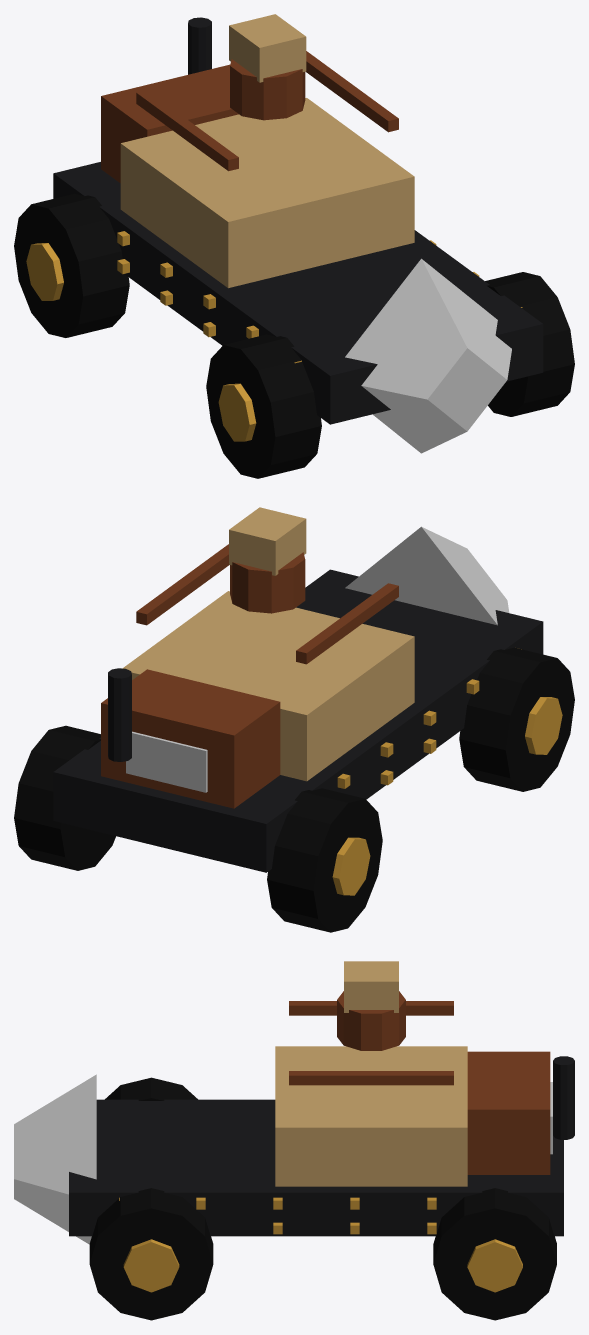
File: raider_buggy.obj
The picture shows the model from 3 angles, top to bottom: view 1: azimuth 30°, elevation 25°; view 2: azimuth 150°, elevation 25°; view 3: azimuth 270°, elevation 25°; orthographic projection. The views are drawn at different scales.
Visible parts, largest first — view 1: chassis, wheel_fl, wheel_rl, turret_base, wheel_fr; view 2: chassis, wheel_rl, wheel_fl, wheel_rr, turret_base; view 3: chassis, wheel_fr, wheel_rr, turret_base, wheel_fl.
Part boxes in pixels (bbox=[...]): chassis: bbox=[53, 17, 543, 453]; wheel_fl: bbox=[206, 334, 321, 478]; wheel_rl: bbox=[14, 193, 129, 337]; turret_base: bbox=[229, 14, 306, 120]; wheel_fr: bbox=[485, 272, 574, 416]; chassis: bbox=[53, 526, 543, 872]; wheel_rl: bbox=[267, 788, 382, 932]; wheel_fl: bbox=[459, 647, 574, 791]; wheel_rr: bbox=[14, 725, 115, 870]; turret_base: bbox=[229, 507, 306, 613]; chassis: bbox=[14, 1001, 574, 1244]; wheel_fr: bbox=[89, 1188, 213, 1320]; wheel_rr: bbox=[433, 1188, 556, 1320]; turret_base: bbox=[337, 961, 405, 1050]; wheel_fl: bbox=[105, 1077, 197, 1100].
Bounding box in the file's own units: 2.35 × 2.28 × 4.08.
